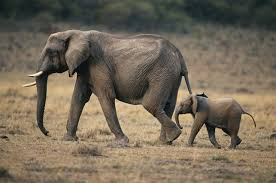elephant: (31, 27, 194, 146), (173, 90, 255, 147)
